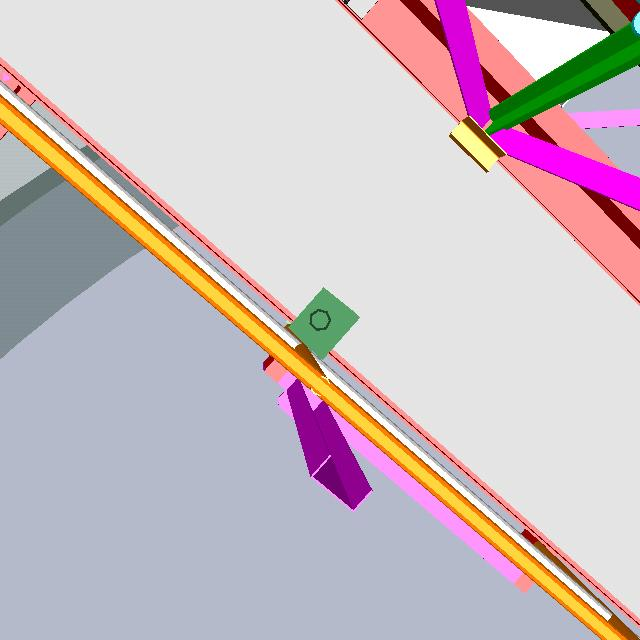Poste: (304, 307, 338, 333)
Soporte: (262, 362, 375, 512)
